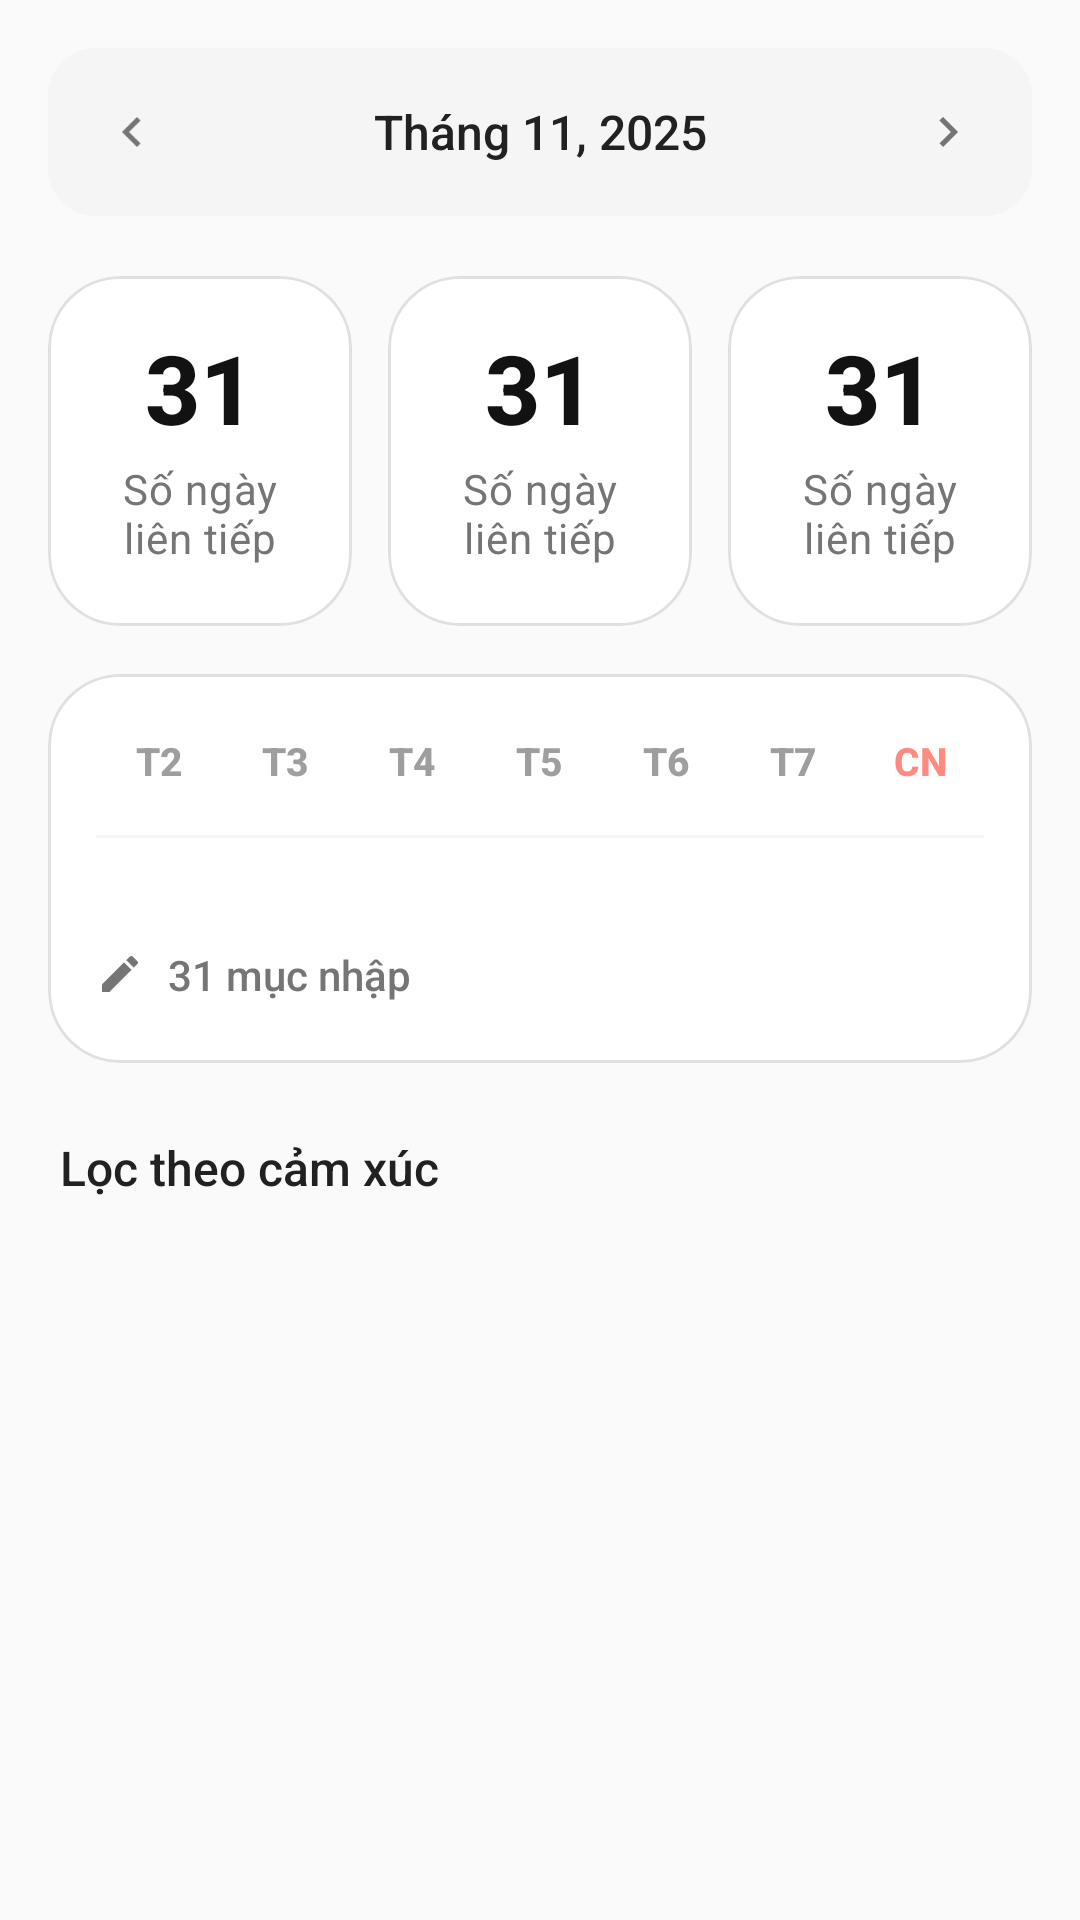

Screen size 1080×1920. Icon name, then its center in pixels as [x,y]:
arrow left: [131,132]
arrow right: [948,132]
edit: [120,974]
